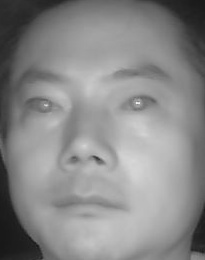eye: (119, 91, 161, 118), (22, 94, 65, 119)
mouth: (51, 183, 123, 226)
